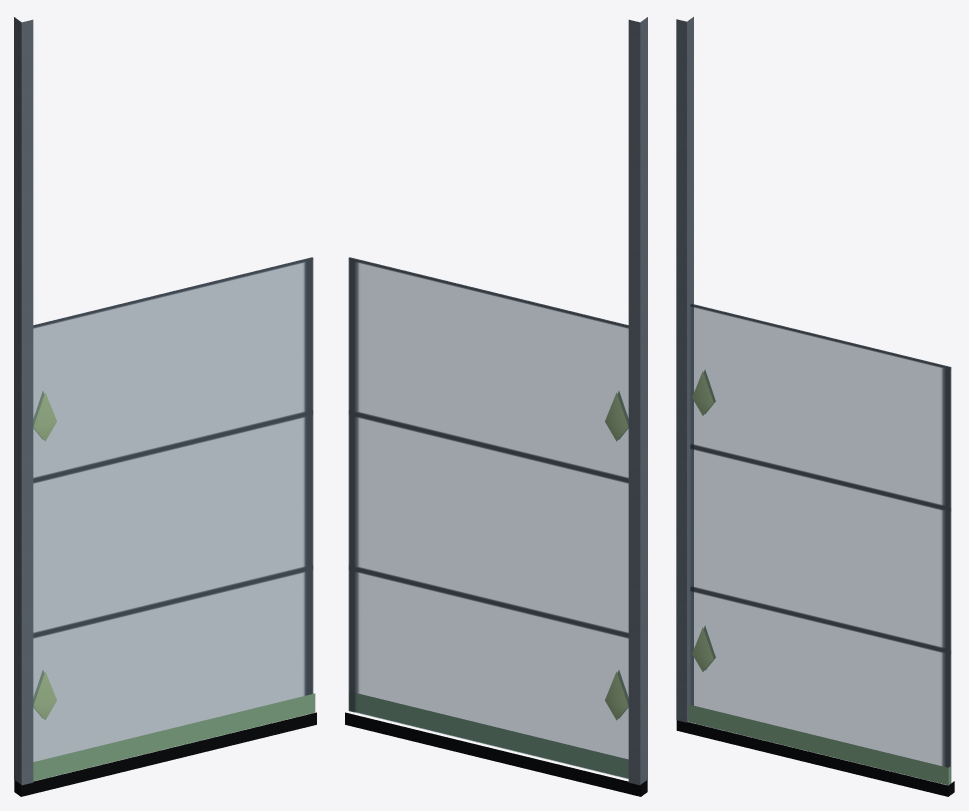
3 views of the same model, side by side, from view 1: azimuth 30°, elevation 25°; view 2: azimuth 150°, elevation 25°; view 3: azimuth 330°, elevation 25° (orthographic). The views are drawn at different scales.
Parts seen in each view (by area): view 1: Glass_Court_Pane, Post_Steel, Kick_Rail_Green, Floor_Channel, Leaf_Clamps; view 2: Glass_Court_Pane, Post_Steel, Kick_Rail_Green, Floor_Channel, Leaf_Clamps; view 3: Glass_Court_Pane, Post_Steel, Kick_Rail_Green, Floor_Channel, Leaf_Clamps.
Part boxes in pixels (x1=…): Glass_Court_Pane: x1=33, y1=257, x2=313, y2=761; Post_Steel: x1=14, y1=17, x2=33, y2=785; Kick_Rail_Green: x1=33, y1=693, x2=315, y2=781; Floor_Channel: x1=14, y1=712, x2=316, y2=796; Leaf_Clamps: x1=33, y1=391, x2=56, y2=720; Glass_Court_Pane: x1=348, y1=257, x2=628, y2=778; Post_Steel: x1=628, y1=17, x2=647, y2=785; Kick_Rail_Green: x1=349, y1=692, x2=628, y2=778; Floor_Channel: x1=345, y1=712, x2=647, y2=796; Leaf_Clamps: x1=605, y1=391, x2=628, y2=720; Glass_Court_Pane: x1=690, y1=303, x2=951, y2=782; Post_Steel: x1=676, y1=17, x2=693, y2=722; Kick_Rail_Green: x1=688, y1=704, x2=950, y2=785; Floor_Channel: x1=676, y1=720, x2=954, y2=796; Leaf_Clamps: x1=692, y1=370, x2=715, y2=671.
Bounding box in the file's own units: 2 × 5 × 0.09.
5 materials, 3 textured.
